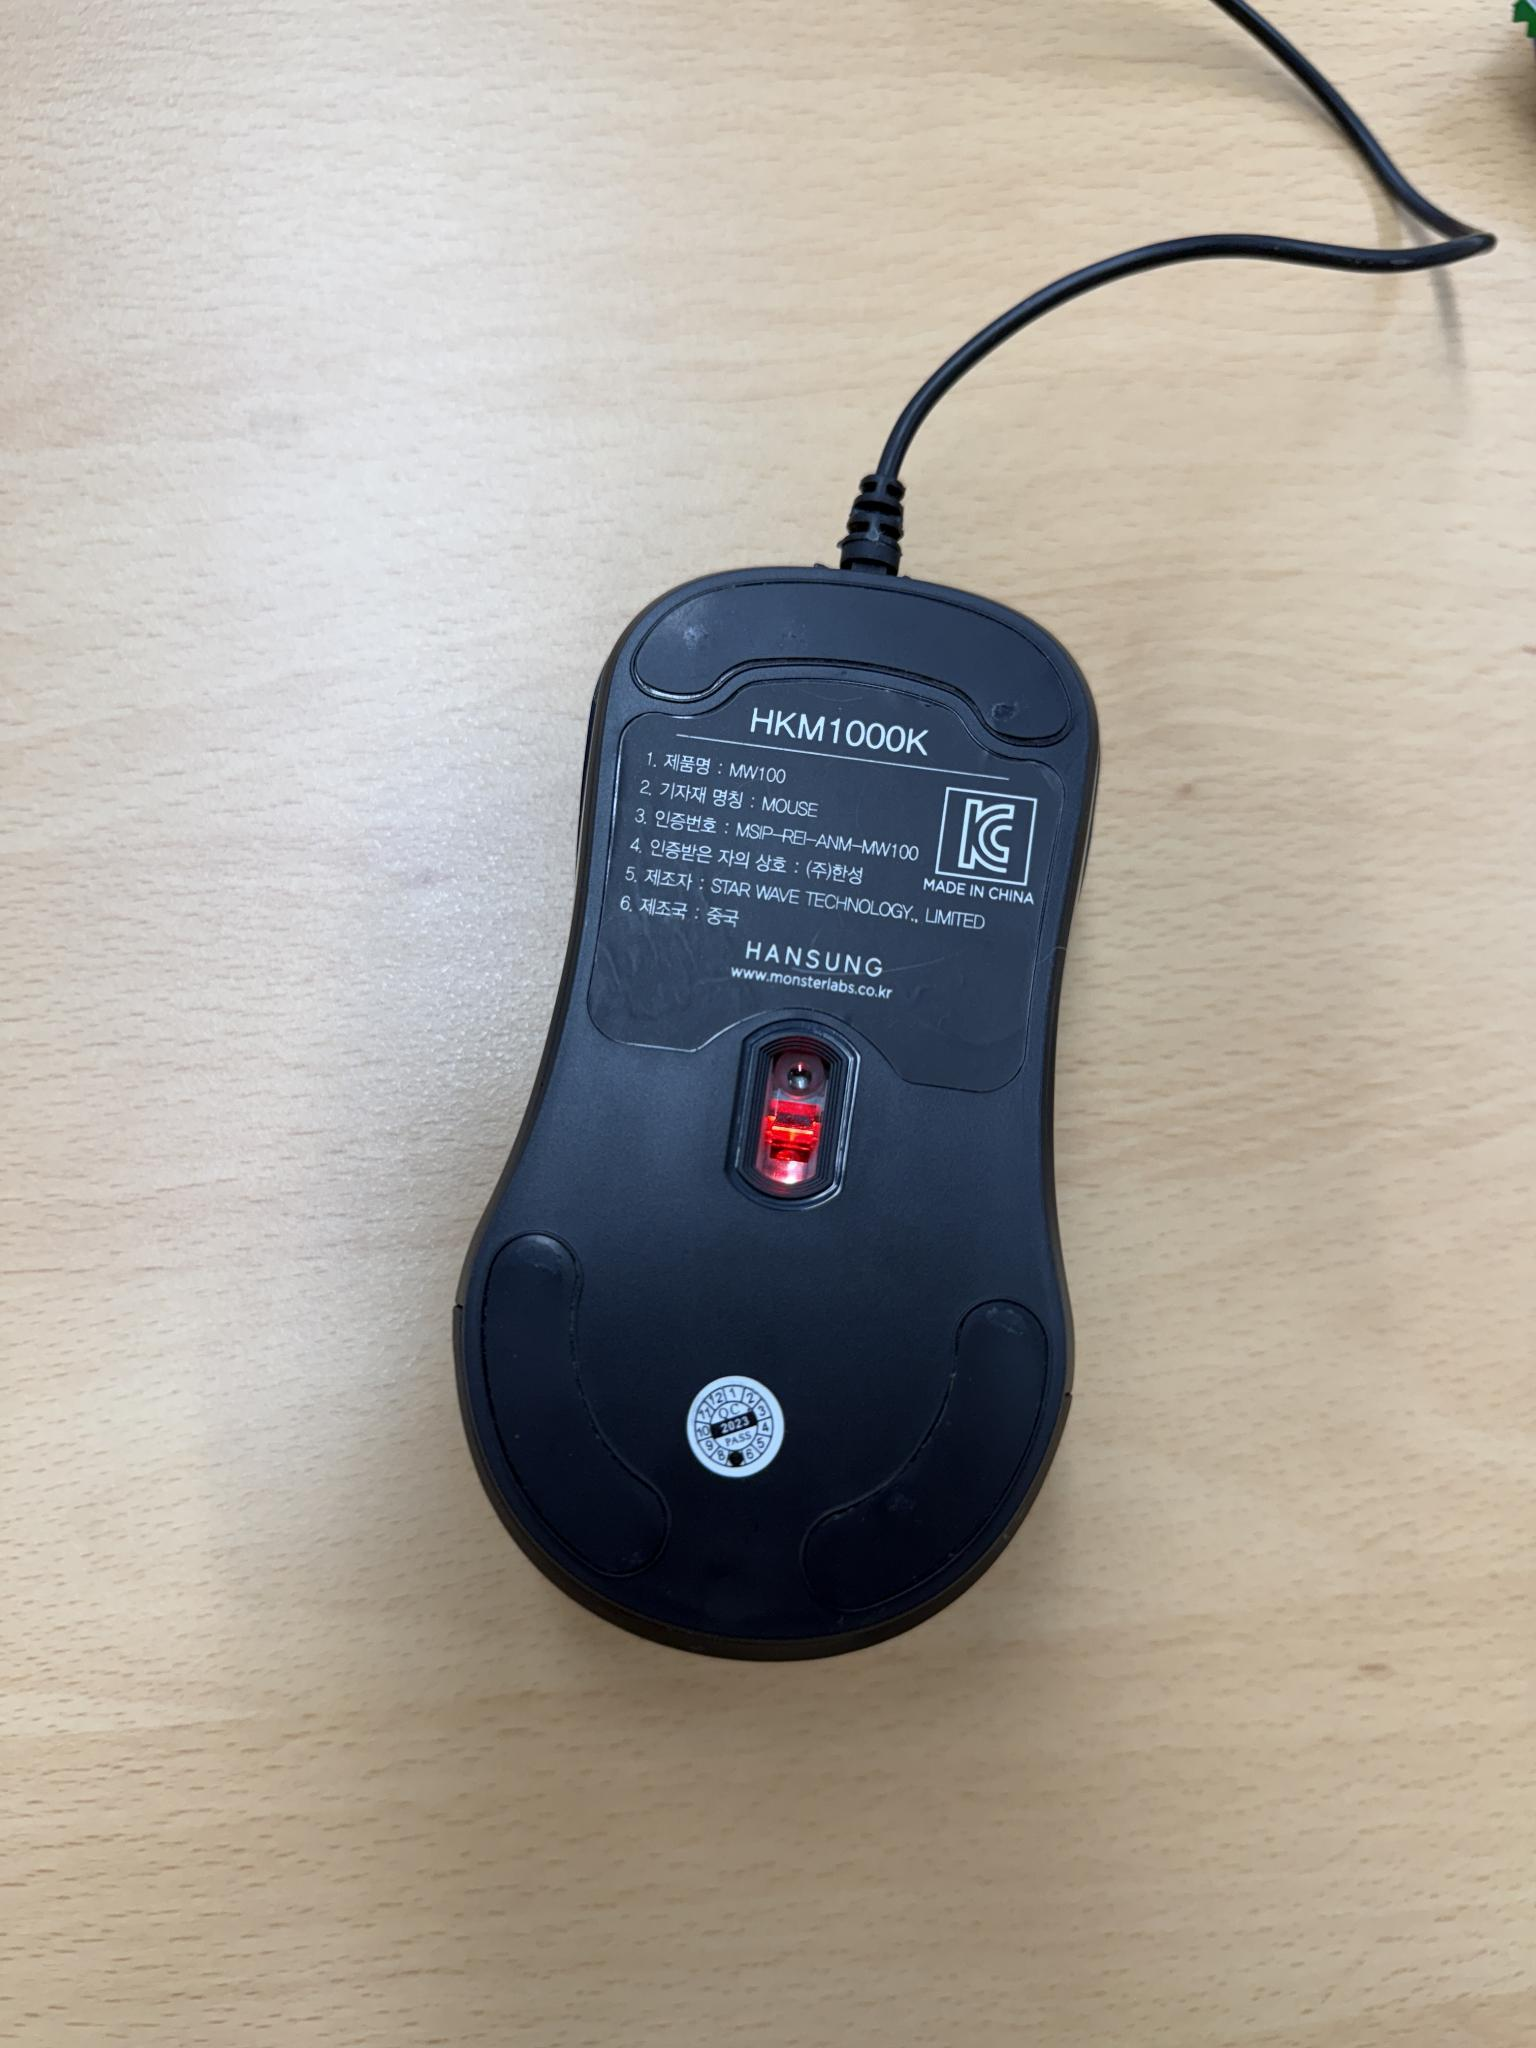back: (450, 553, 1097, 1669)
